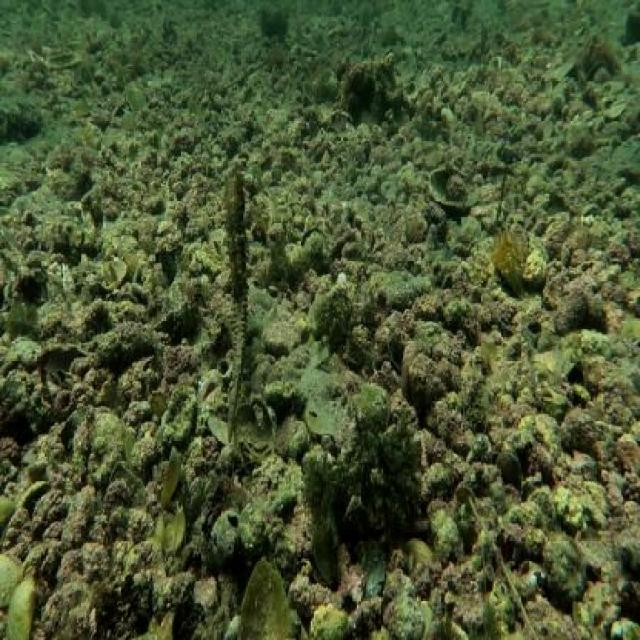Guttu: (216, 165, 260, 325)
